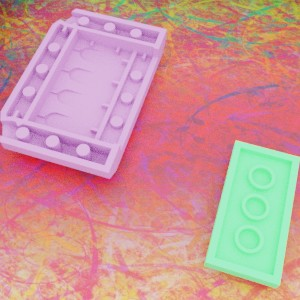lego: (0, 8, 166, 178), (203, 140, 300, 288)
